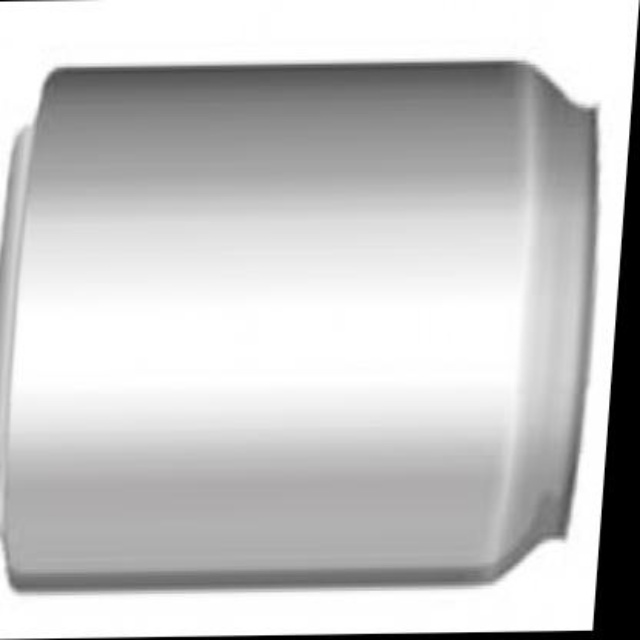trash: (0, 62, 594, 586)
